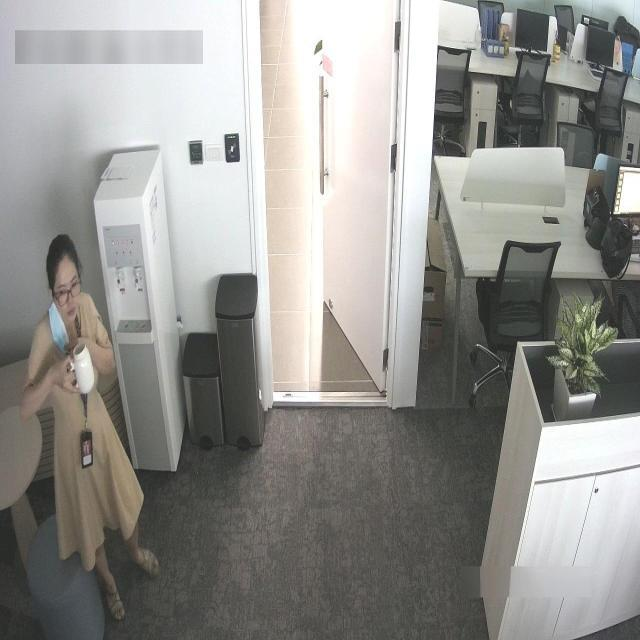hairnet: (51, 294, 79, 322)
